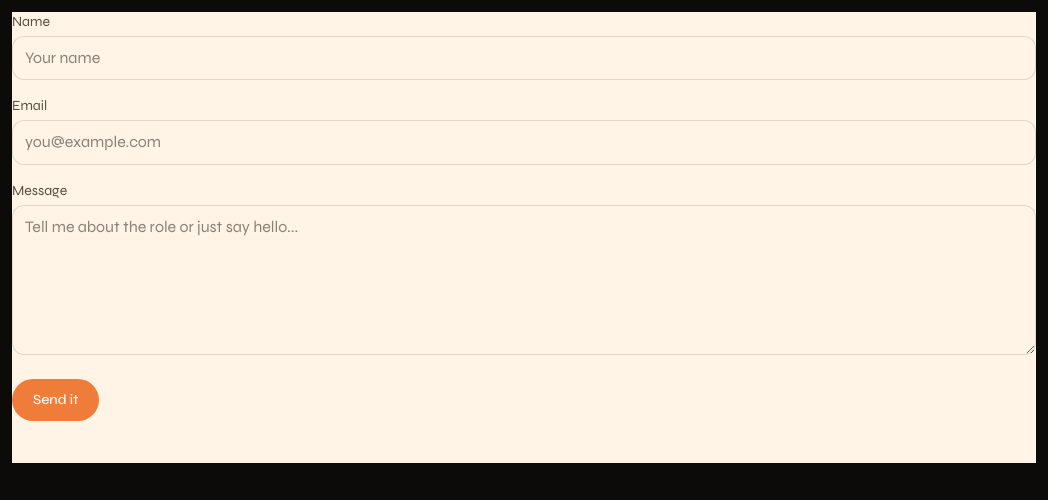
ContactForm › renders the error message returned by the action
In the field labelled "Name": (524, 58) left=12, top=36, right=1036, bottom=80, type "Ada"
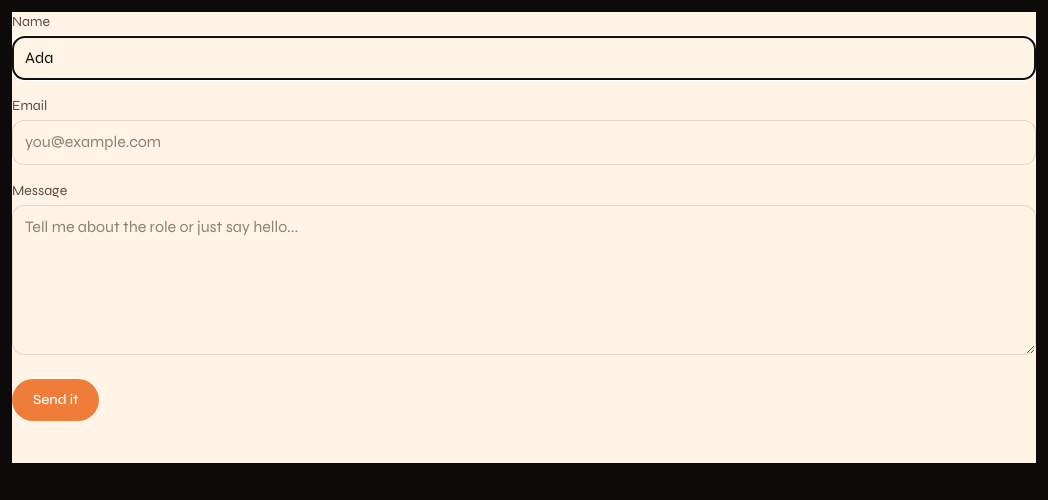
In the field labelled "Email": (524, 143) left=12, top=120, right=1036, bottom=165, type "ada@example.com"
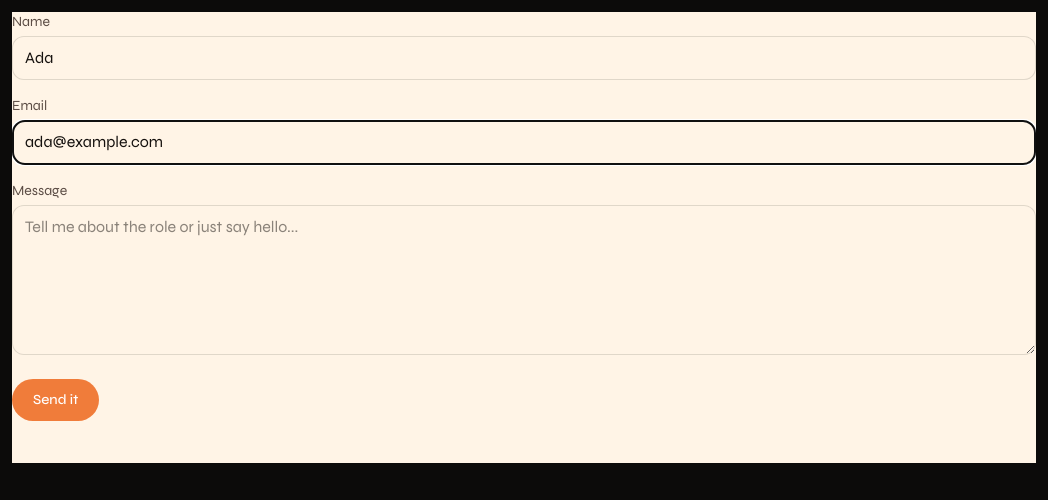
In the text box labelled "Message": (524, 280) left=12, top=205, right=1036, bottom=355, type "Hi"
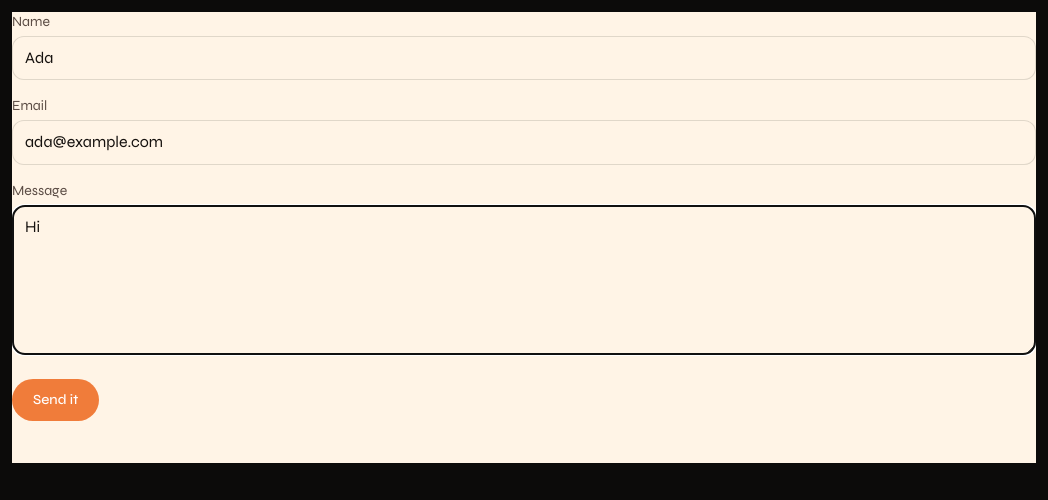
Click the button "Send it": click(56, 400) left=12, top=379, right=99, bottom=421
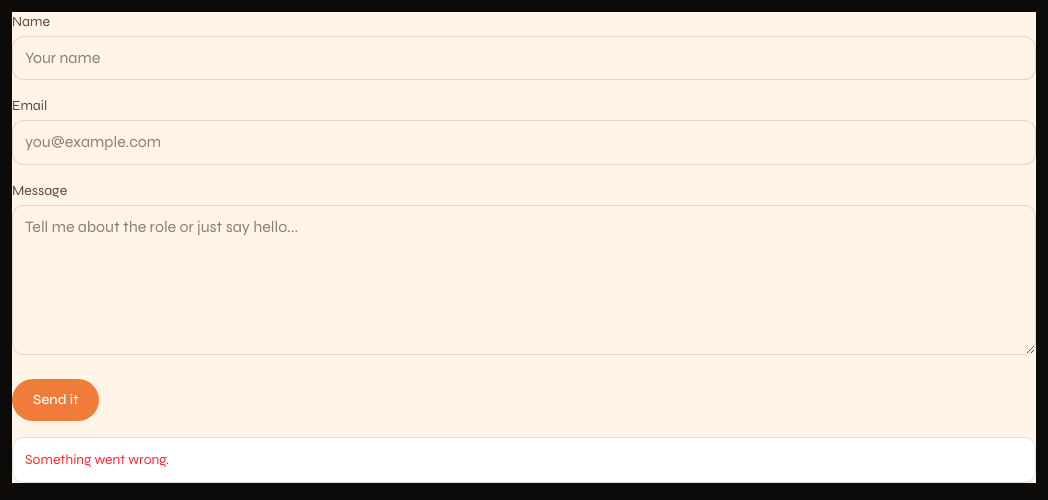
Check: the text "Something went wrong." is shown, box left=12, top=437, right=1036, bottom=483
